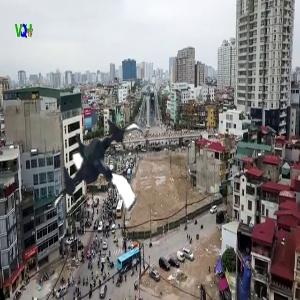drone: (43, 113, 158, 228)
